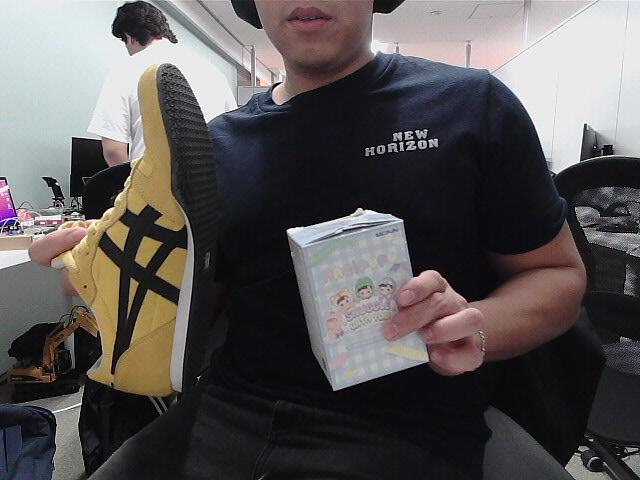Blind_box: (281, 212, 434, 393)
Shoes: (71, 62, 215, 391)
